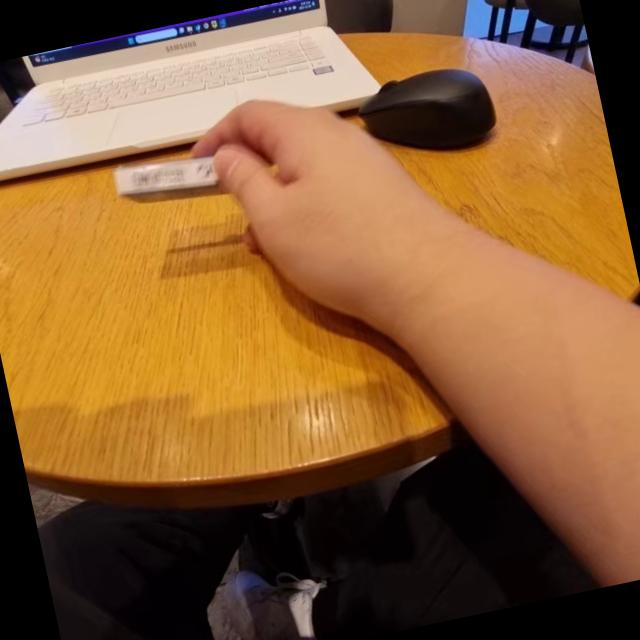eraser: (102, 137, 248, 222)
grab_eraser: (104, 66, 432, 366)
hand: (190, 82, 385, 294)
mouse: (349, 34, 537, 166)
